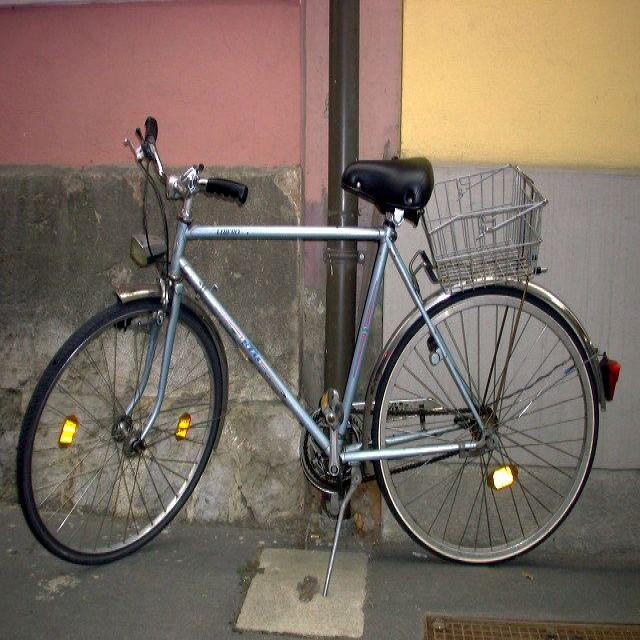bicycle: (15, 115, 619, 592)
